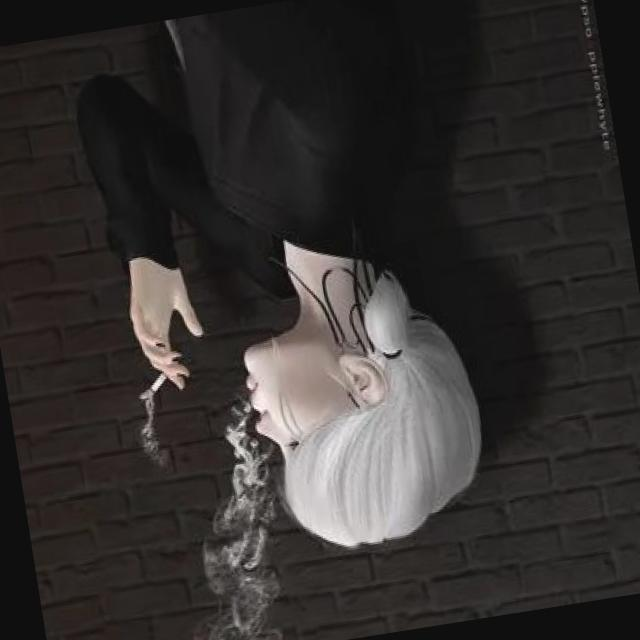cigarette: (135, 355, 180, 403)
